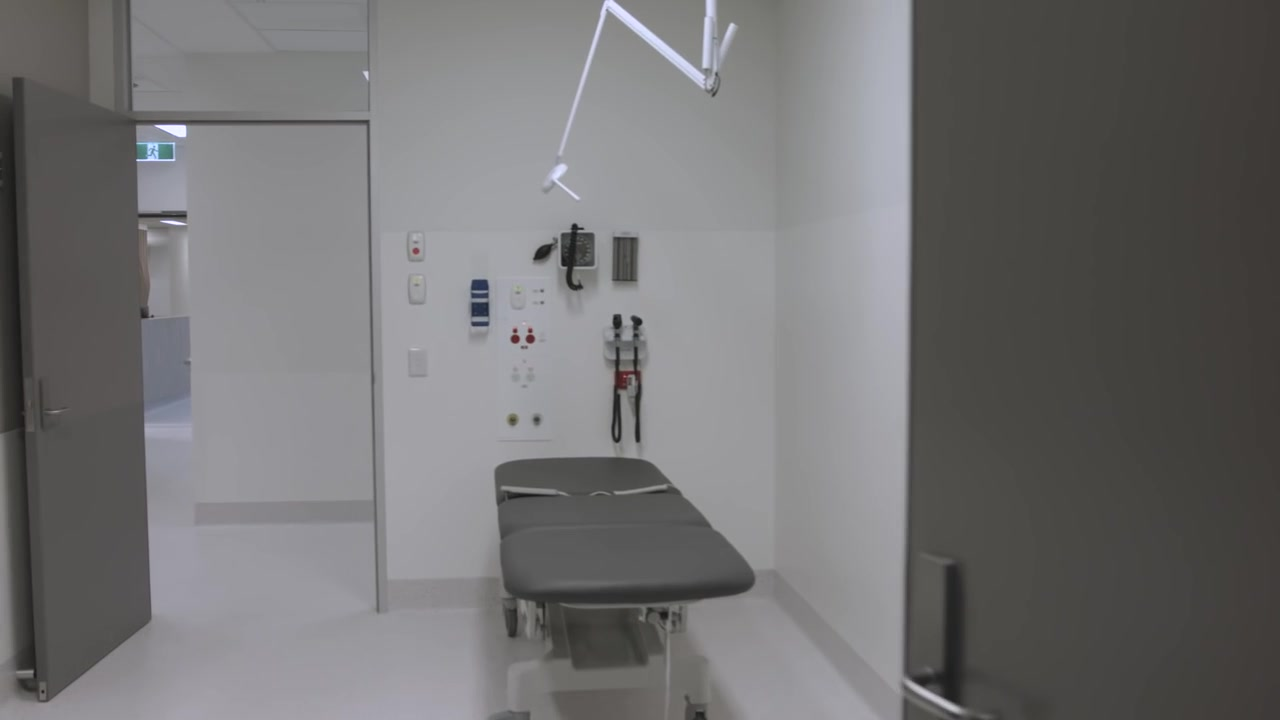door_handle: (900, 547, 979, 720), (30, 372, 77, 432)
exam_table: (493, 457, 756, 720)
